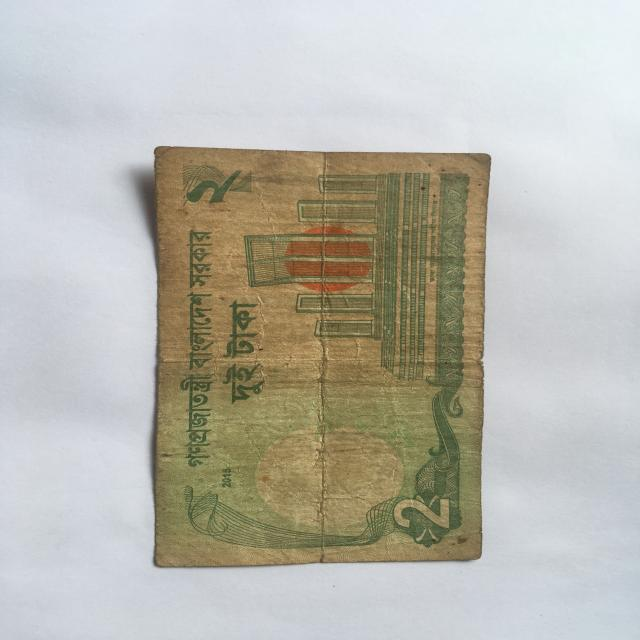Taka: (155, 136, 476, 560)
